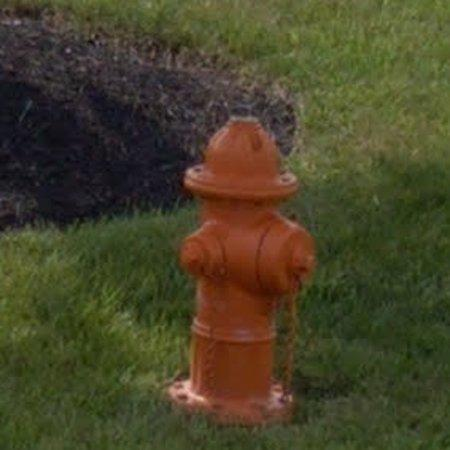a fire hydrant: (168, 118, 316, 426)
